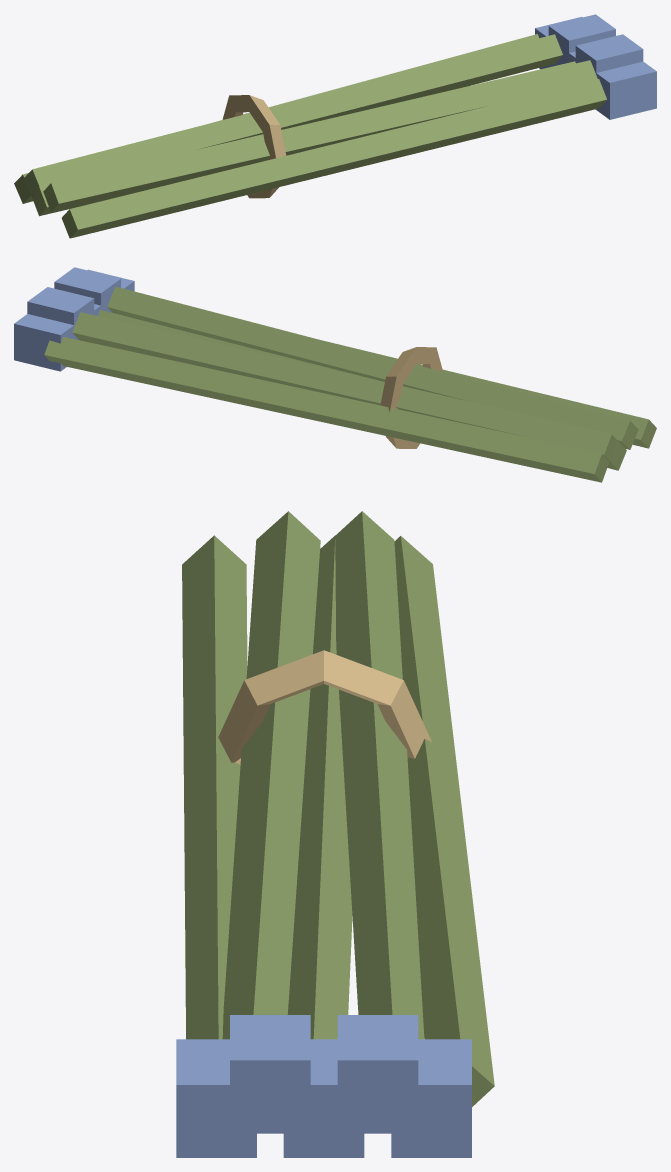
Rendered from flax.glb.
3 views of the same model, one above another, from view 1: azimuth 30°, elevation 25°; view 2: azimuth 150°, elevation 25°; view 3: azimuth 270°, elevation 25° (orthographic). The views are drawn at different scales.
Parts seen in each view (by area): view 1: flax; view 2: flax; view 3: flax.
Boxes of the visible parts, x1,y1,x2,y2 form: flax: [14, 14, 656, 238]; flax: [14, 267, 656, 482]; flax: [176, 511, 494, 1157].
Size of the model in its own units: 0.4903 by 0.0839 by 0.1185.
